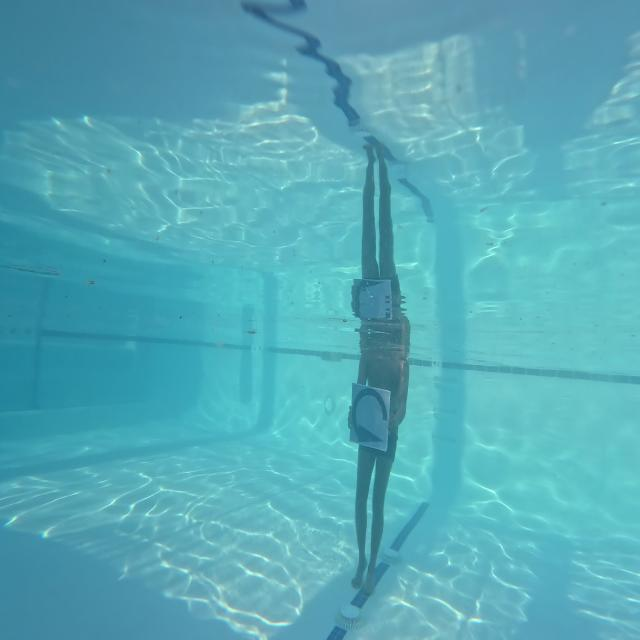blue_side: (350, 384, 389, 453)
